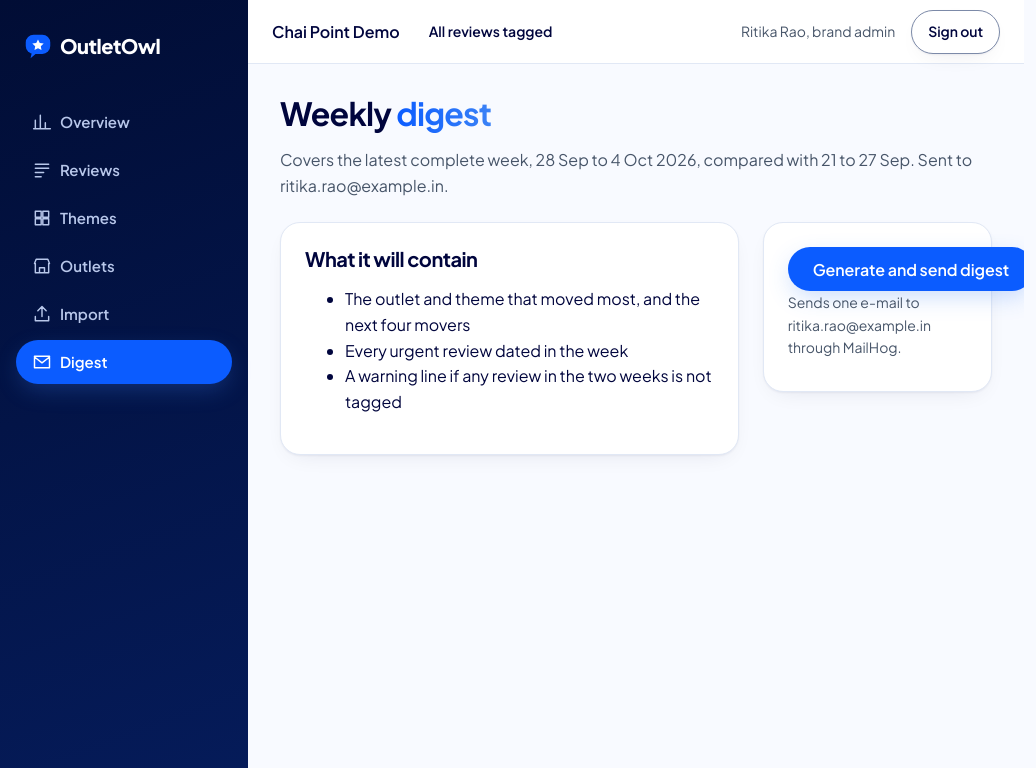
Test case: DigestPage › generates the digest with a key and shows what was sent, as text
Expected: the text "Covers the latest complete week, 28 Sep to 4 Oct 2026, compared with 21 to 27 Sep. Sent to ritika.rao@example.in." is shown, [280, 149, 972, 196]
Click the button "Generate and send digest" at (906, 269), box [788, 247, 1024, 291]
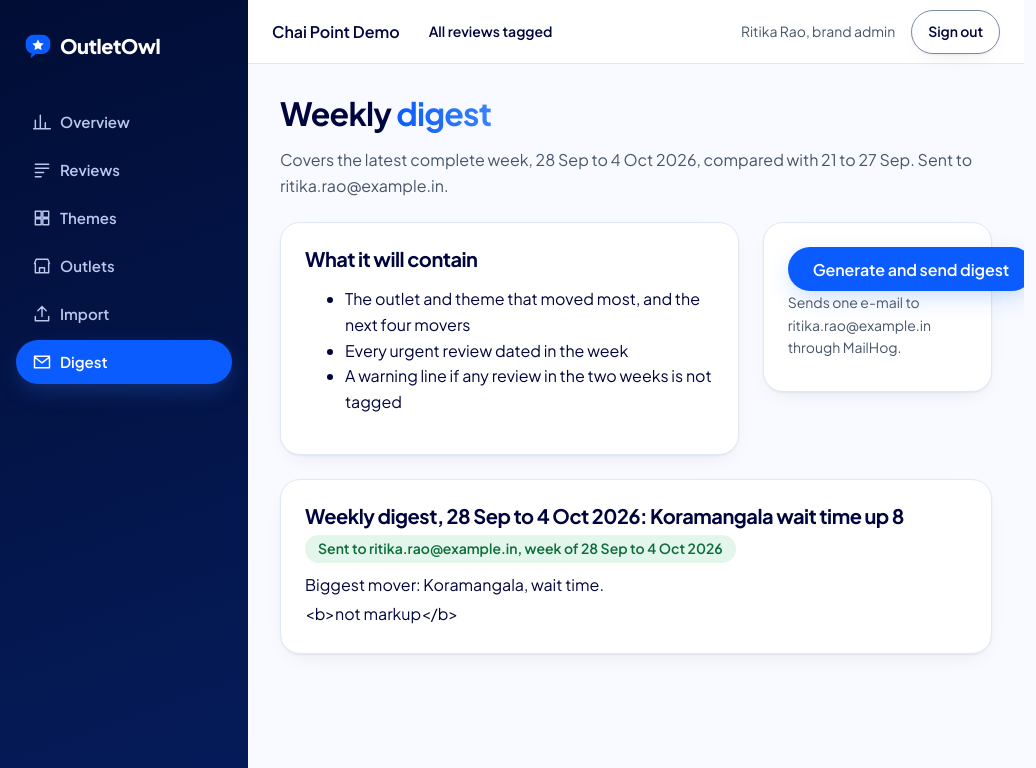
Result: the heading "Weekly digest, 28 Sep to 4 Oct 2026: Koramangala wait time up 8" is shown at [305, 504, 967, 527]
Result: the text "Sent to ritika.rao@example.in, week of 28 Sep to 4 Oct 2026" is shown at [305, 535, 736, 563]
Result: the text "Biggest mover: Koramangala, wait time. <b>not markup</b>" is shown at [305, 574, 604, 624]
